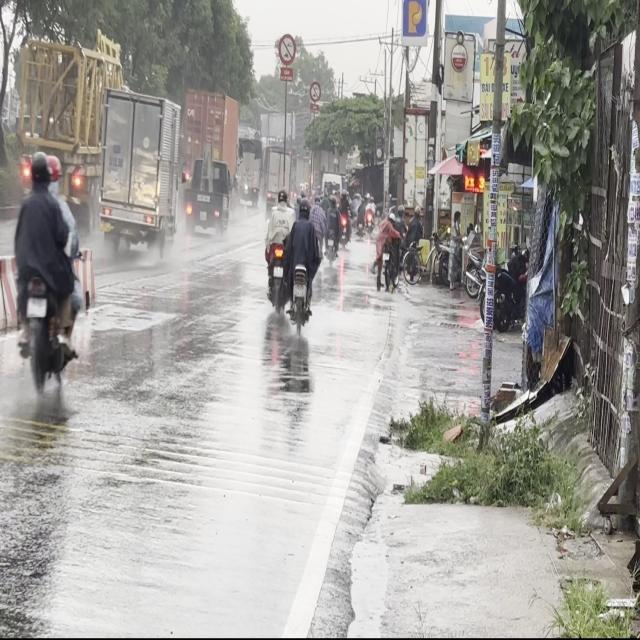helmet: (29, 149, 48, 187), (46, 152, 61, 188)
licenseplate: (8, 148, 82, 408)
nohelmet: (27, 298, 46, 318)
